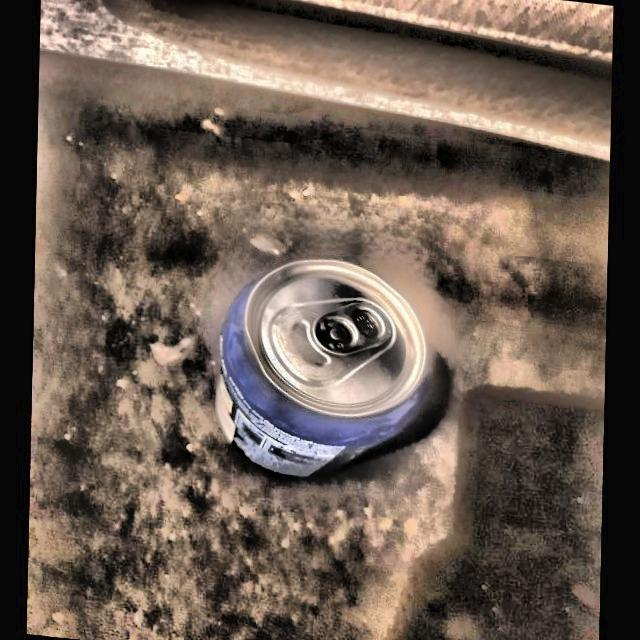pepsi-can: (214, 263, 430, 488)
